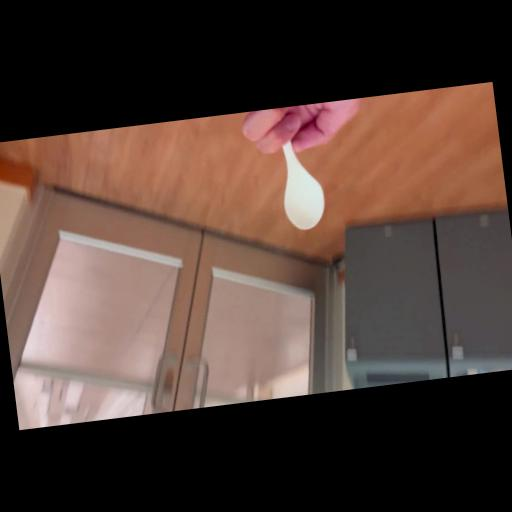utensil: (267, 119, 330, 235)
